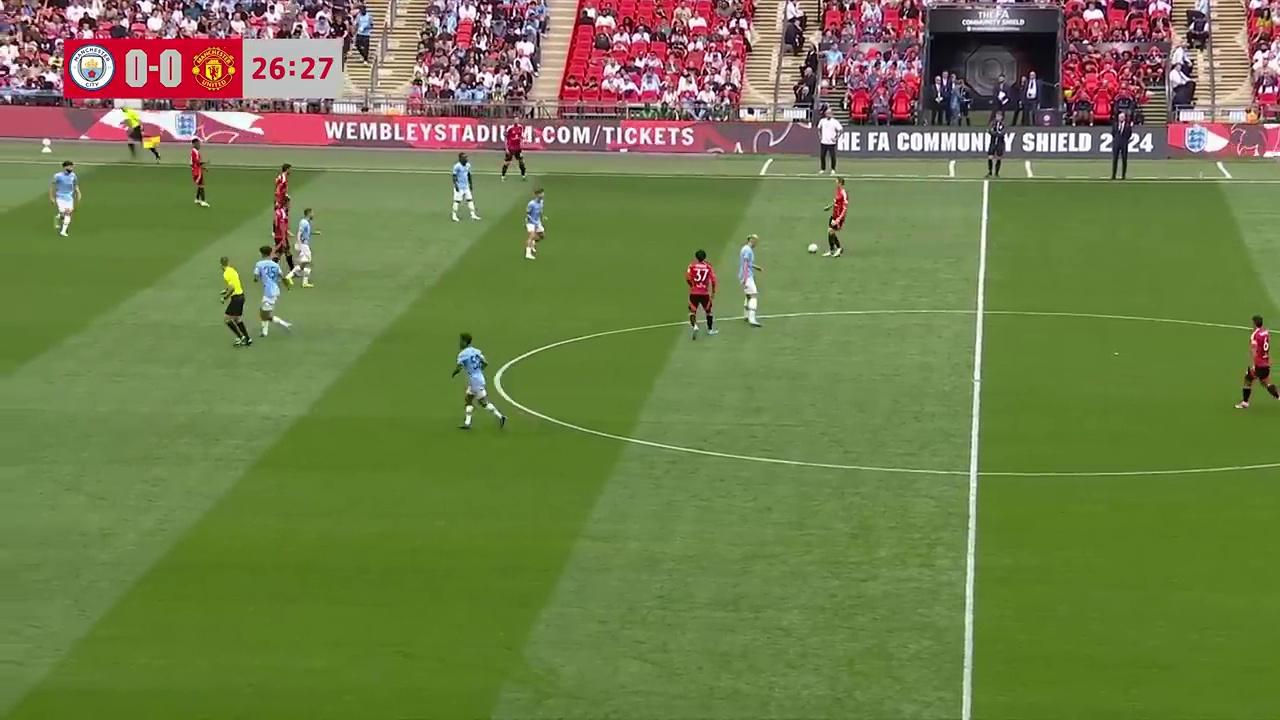ball: (806, 239, 819, 253)
player: (450, 333, 506, 430), (1235, 315, 1279, 409), (251, 242, 287, 336), (685, 249, 718, 339), (737, 235, 765, 326), (50, 160, 81, 236), (292, 208, 321, 287), (822, 178, 849, 256), (271, 197, 297, 278), (450, 152, 480, 222), (524, 188, 546, 260), (499, 128, 527, 181), (188, 141, 210, 207), (273, 164, 291, 227)
referee: (120, 96, 164, 169), (218, 258, 252, 348)
